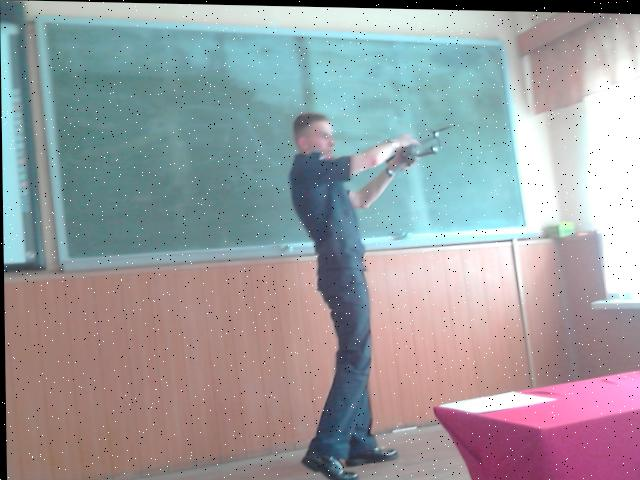drone: (365, 110, 454, 182)
